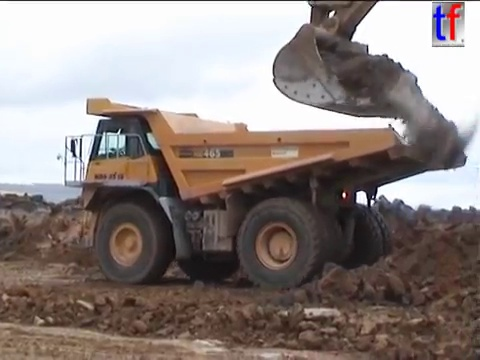excavator: (55, 95, 471, 293), (267, 1, 429, 121)
